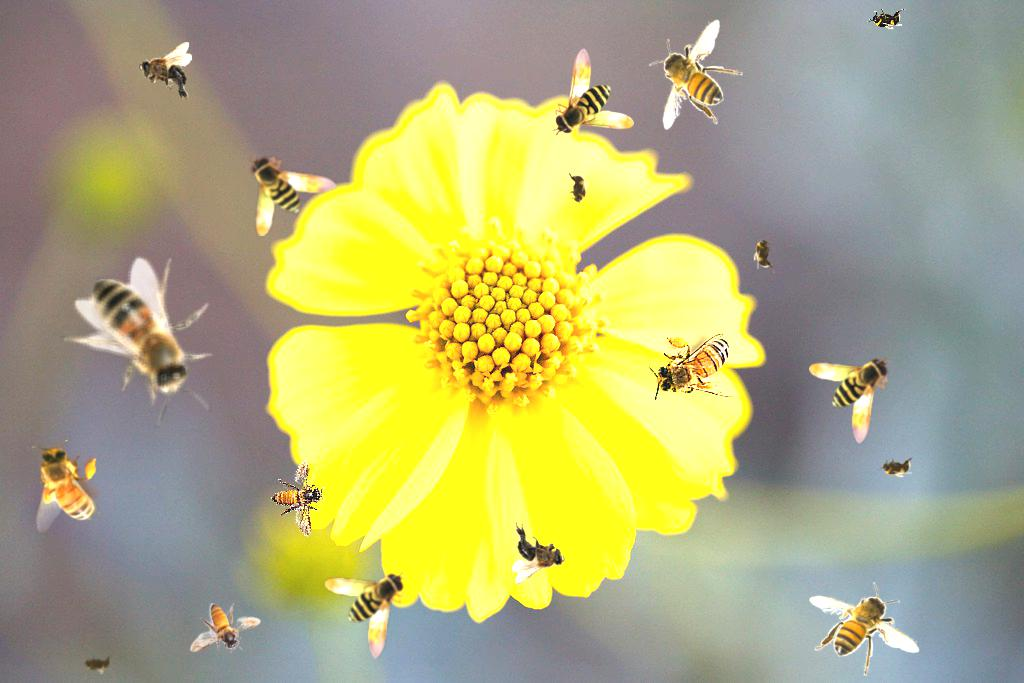Bee: (45, 233, 250, 441), (809, 582, 920, 676), (649, 19, 743, 130), (325, 571, 407, 659), (809, 356, 891, 444), (552, 48, 634, 136), (249, 154, 337, 236), (649, 333, 742, 401), (32, 440, 100, 533), (262, 453, 336, 538), (190, 603, 261, 653), (139, 42, 192, 104), (512, 522, 565, 584), (567, 169, 589, 209), (866, 8, 906, 30), (876, 456, 916, 478), (753, 233, 775, 273), (77, 652, 117, 674)
